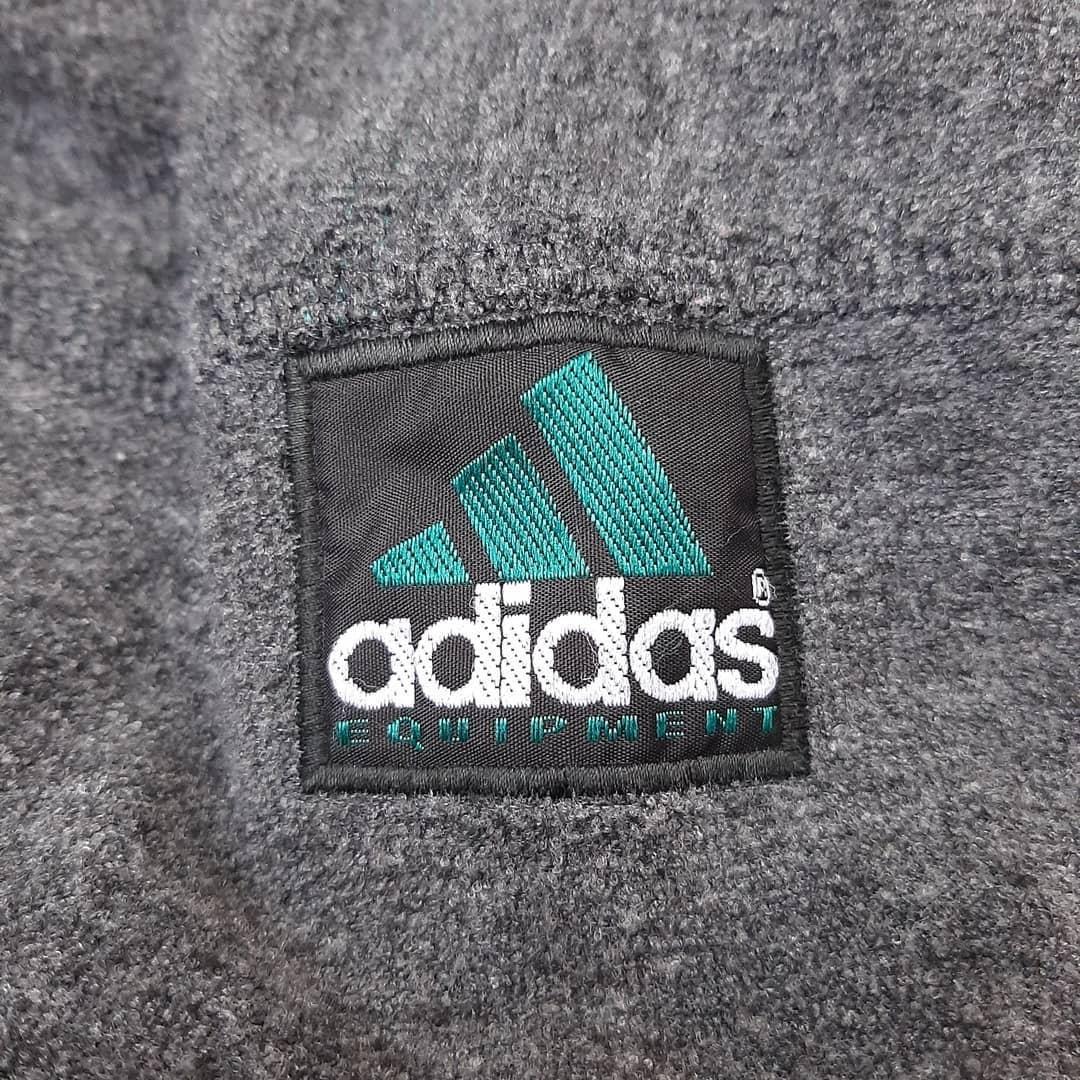adidas_1: (275, 305, 822, 782)
